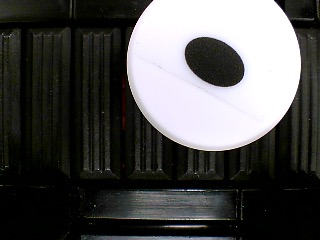BOHOEL: (126, 1, 302, 152)
